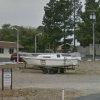Boat: (22, 46, 83, 77)
